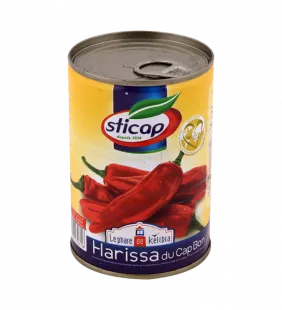STICAP: (60, 20, 221, 284)
